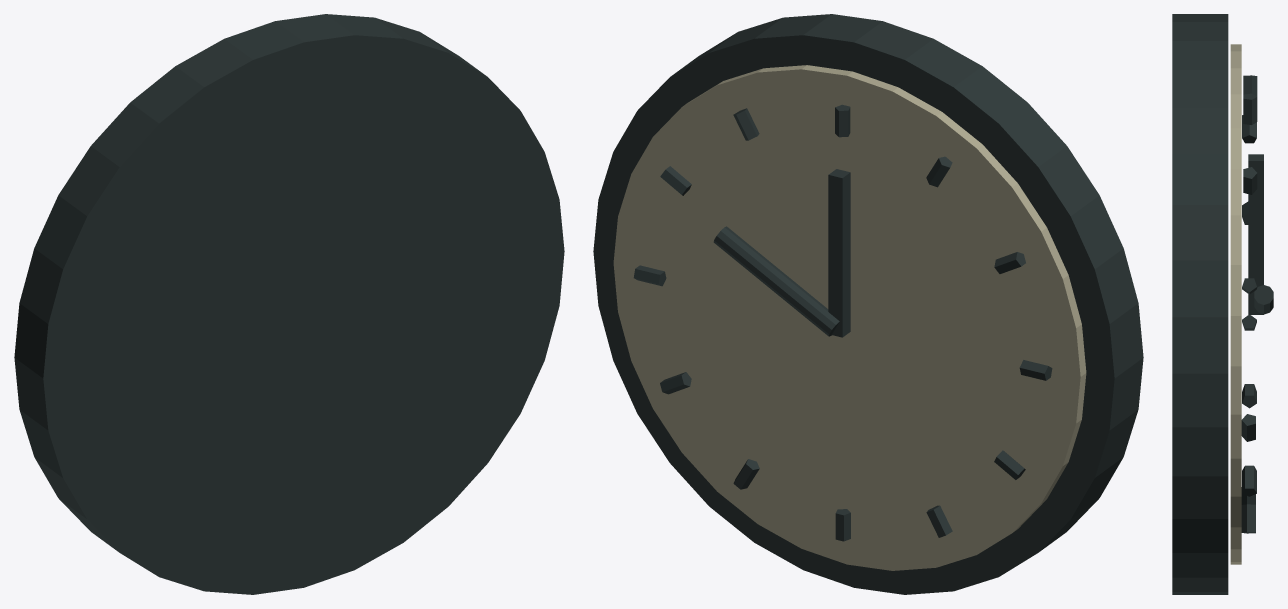
The model's file is clock.glb.
The picture shows the model from 3 angles, left to right: view 1: azimuth 30°, elevation 25°; view 2: azimuth 150°, elevation 25°; view 3: azimuth 270°, elevation 25°; orthographic projection. The views are drawn at different scales.
Visible parts, largest first — view 1: clock; view 2: clock; view 3: clock.
Part boxes in pixels (box(x1,y1,x2,y2)): clock: box(14, 14, 564, 594); clock: box(593, 14, 1143, 594); clock: box(1172, 14, 1273, 594).
Size of the model in its own units: 0.52 by 0.52 by 0.0906.
